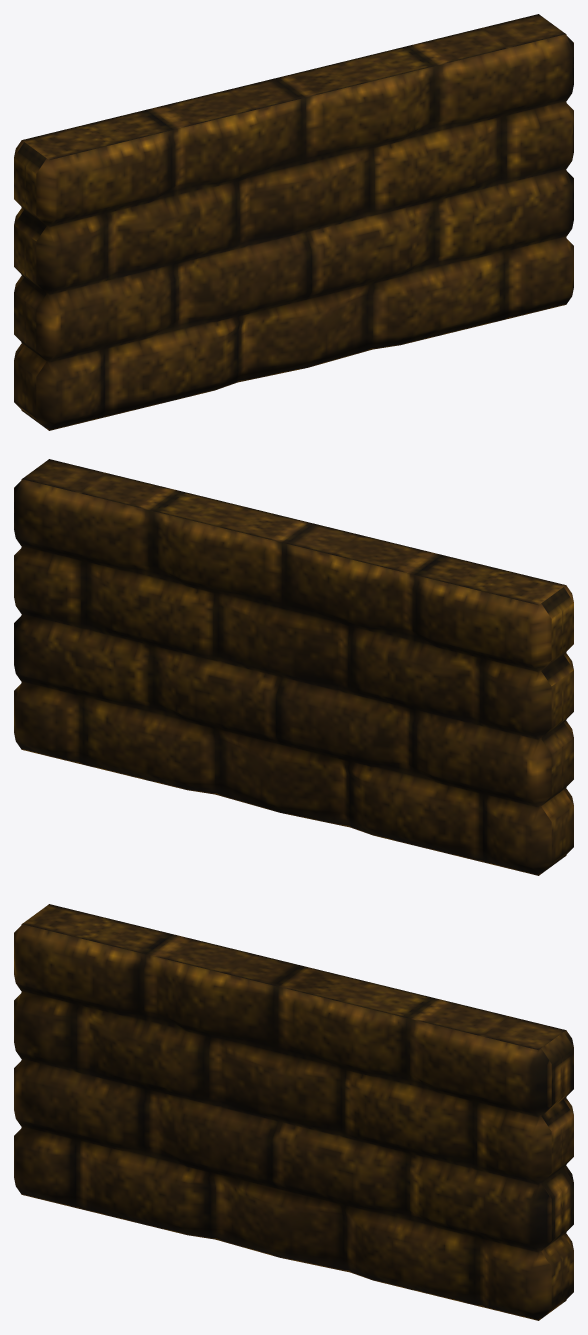
The model's file is Halfwall.fbx.
The picture shows the model from 3 angles, top to bottom: view 1: azimuth 30°, elevation 25°; view 2: azimuth 150°, elevation 25°; view 3: azimuth 330°, elevation 25°; orthographic projection.
Parts seen in each view (by area): view 1: Halfwall; view 2: Halfwall; view 3: Halfwall.
Part boxes in pixels (bbox=[...]): Halfwall: bbox=[14, 14, 573, 430]; Halfwall: bbox=[14, 459, 573, 875]; Halfwall: bbox=[14, 904, 573, 1320].
Size of the model in its own units: 208 by 100 by 26.39.
1 material, 1 textured.
